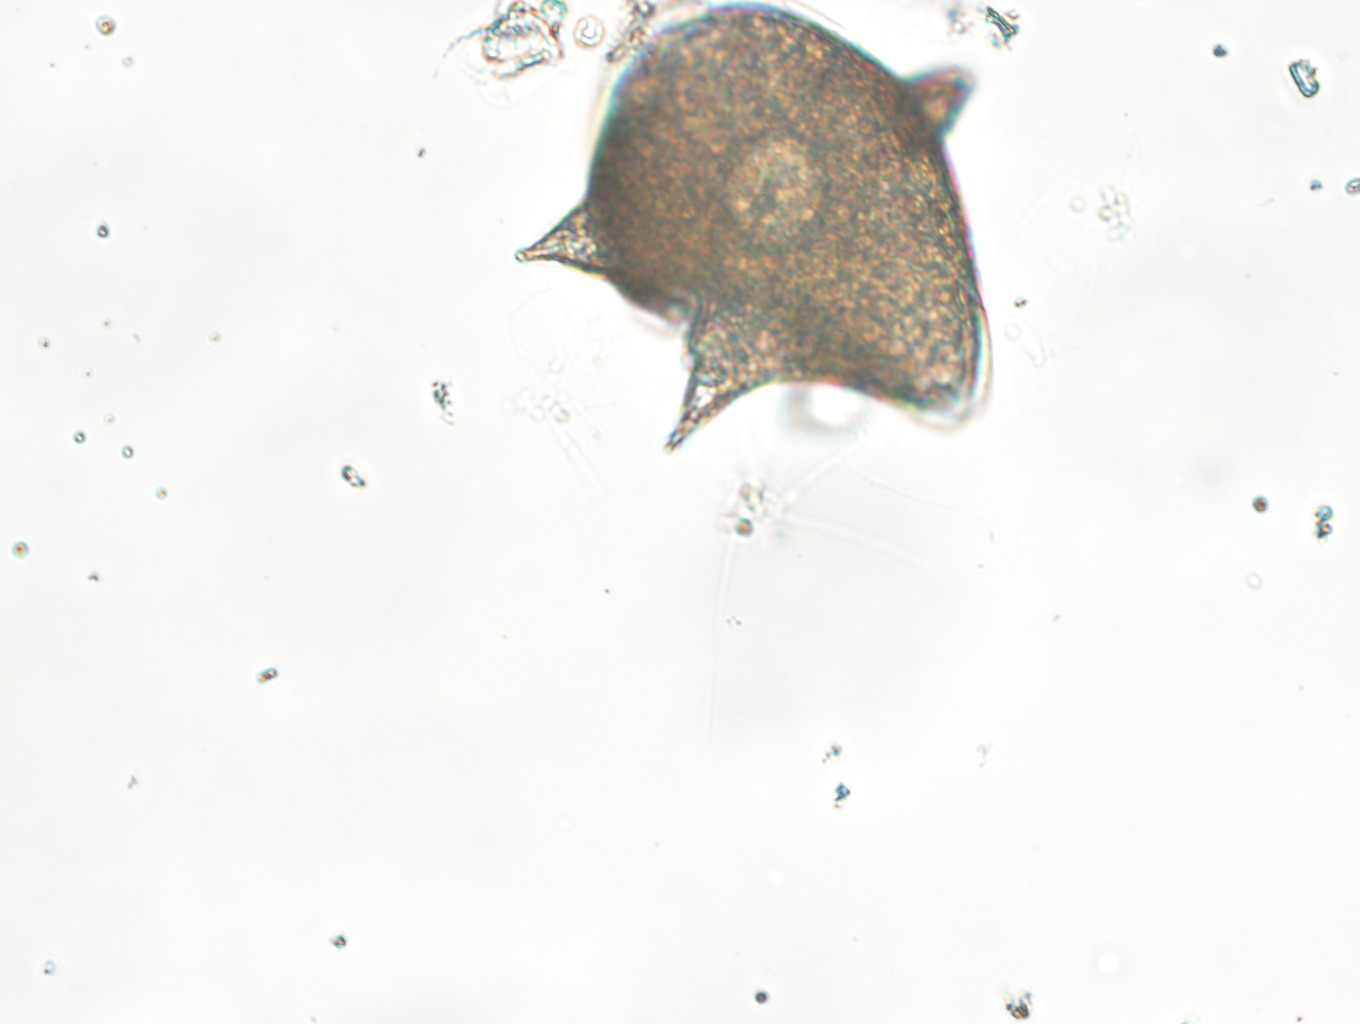protoperidinium: (514, 1, 997, 455)
